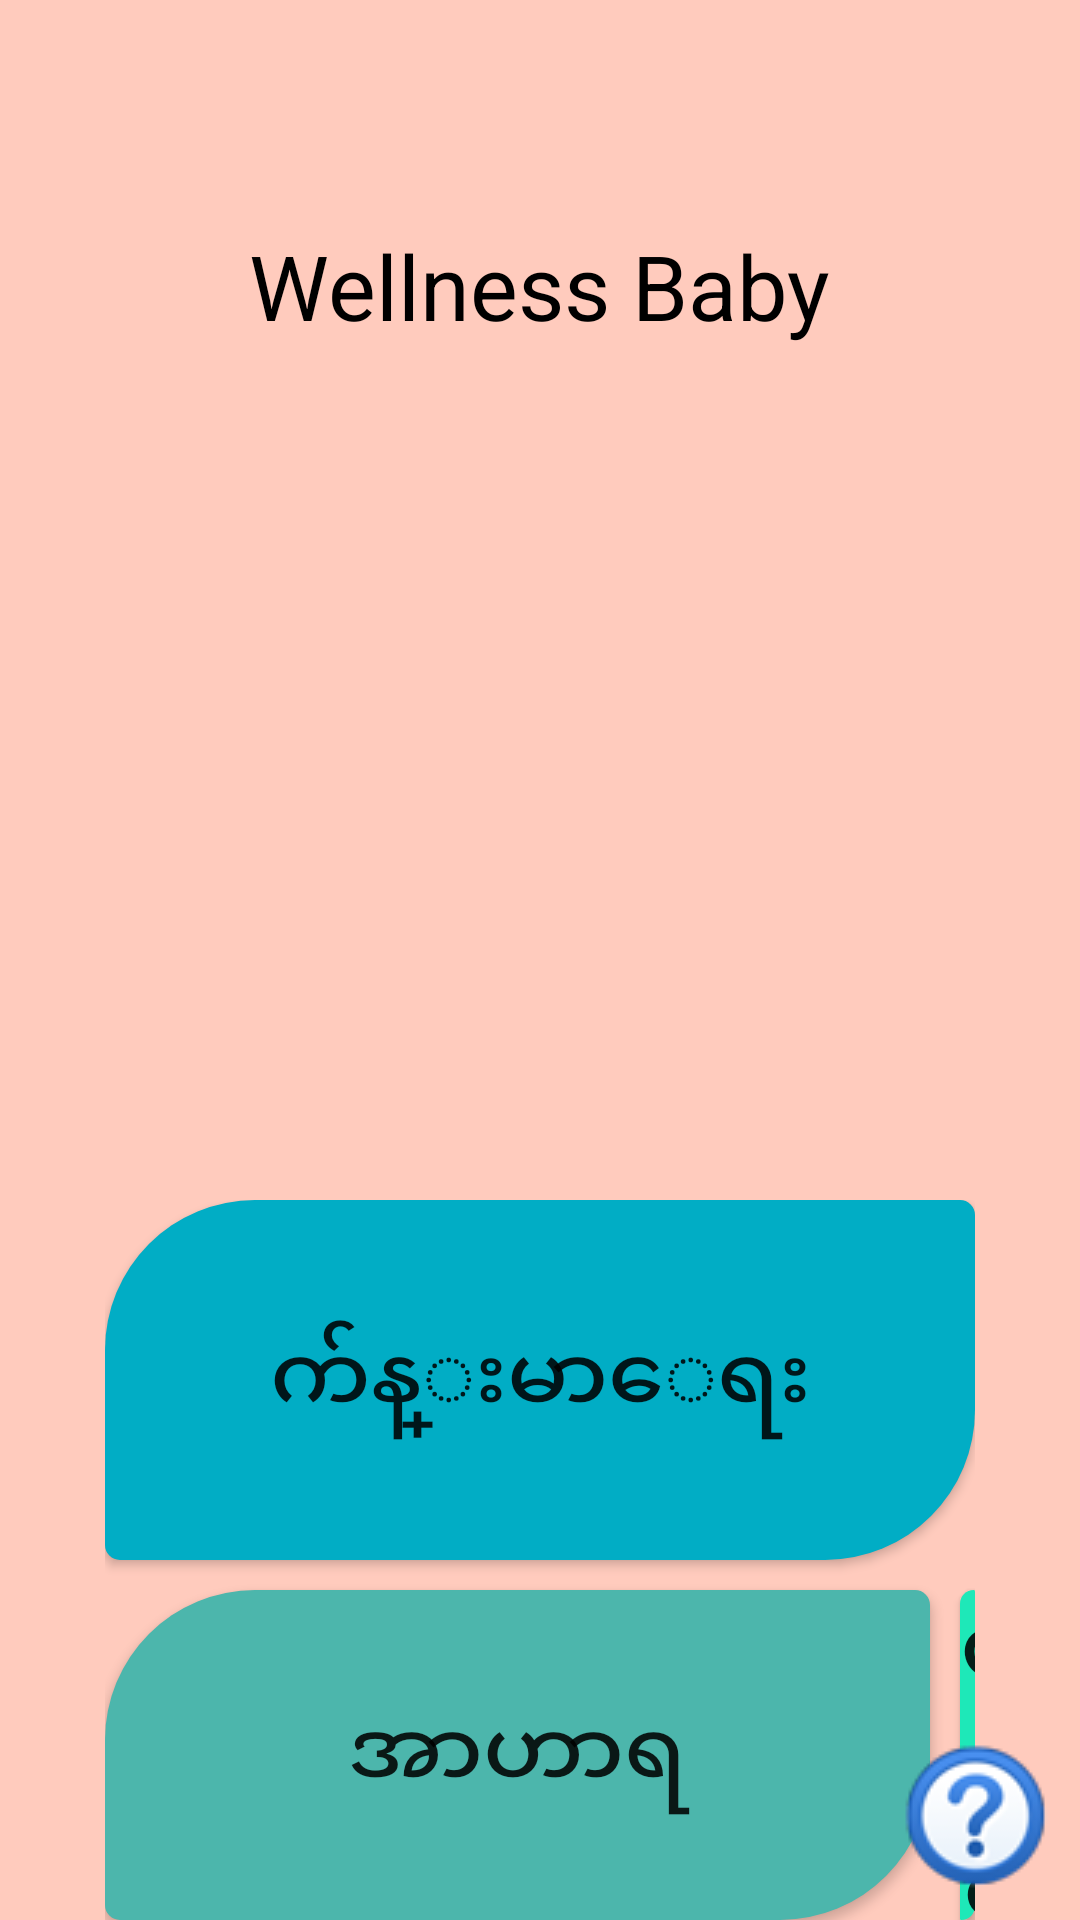

Screen size 1080px×1920px. Icon name, then its center in pixels as [x,y]:
help: [972,1815]
